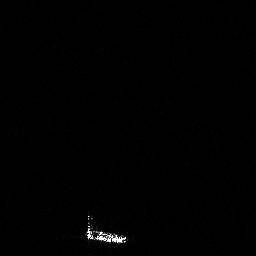ship: (83, 212, 130, 247)
